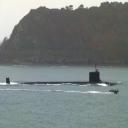submarine: (6, 72, 123, 88)
